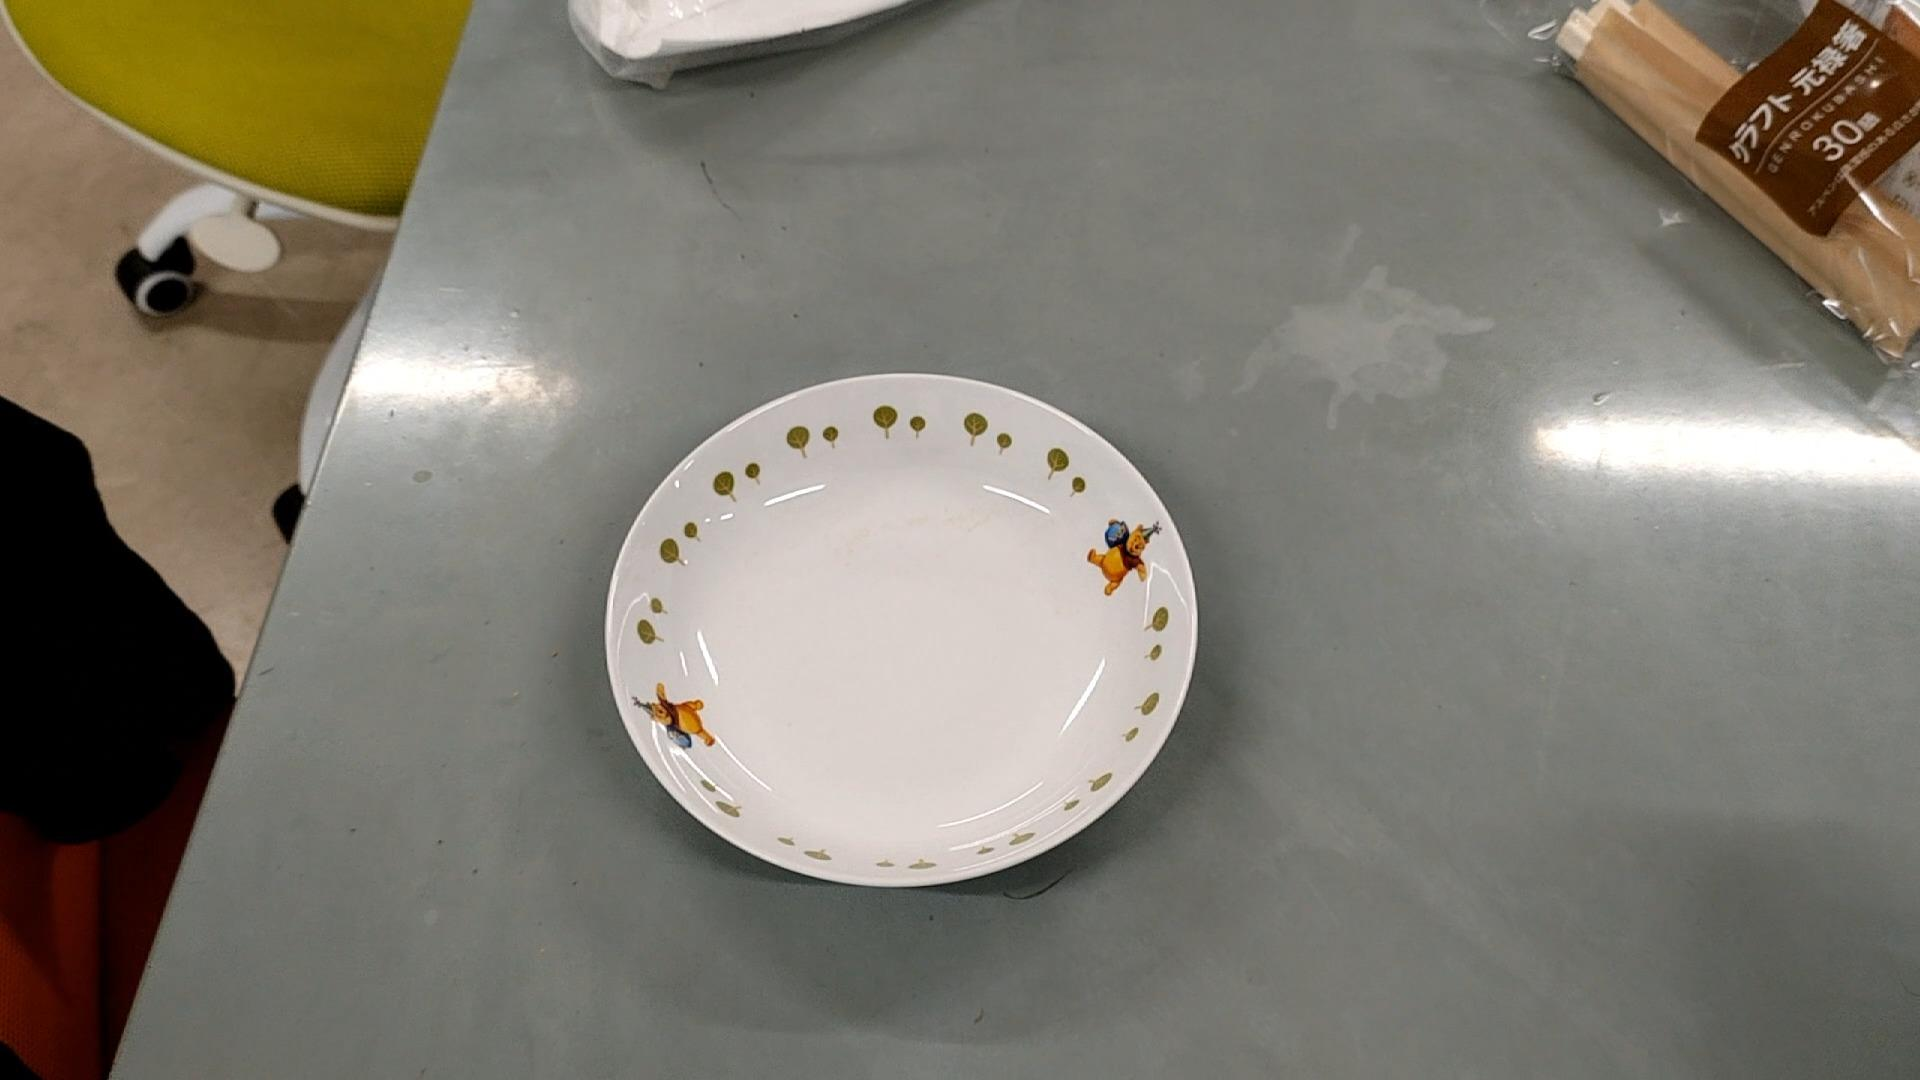plate: (608, 373, 1197, 890)
